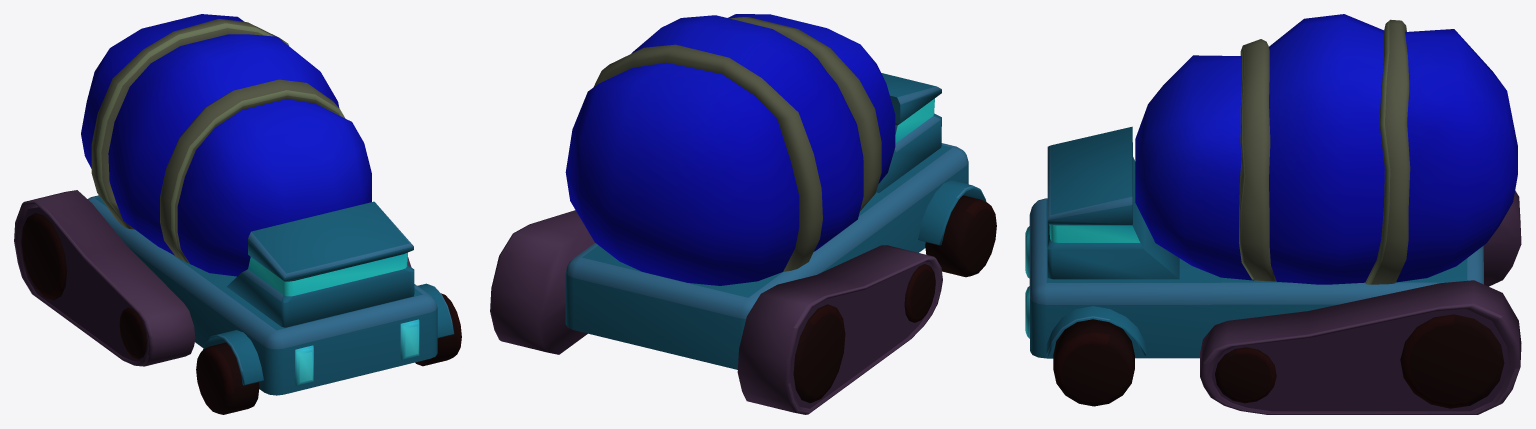
File: Collectors.fbx
The picture shows the model from 3 angles, left to right: view 1: azimuth 30°, elevation 25°; view 2: azimuth 150°, elevation 25°; view 3: azimuth 270°, elevation 25°; orthographic projection. The views are drawn at different scales.
Parts seen in each view (by area): view 1: Bot; view 2: Bot; view 3: Bot.
Part boxes in pixels (x1,y1,x2,y2): Bot: (14,14,461,414); Bot: (490,14,996,414); Bot: (1025,14,1521,414).
Size of the model in its own units: 158 by 150 by 219.
